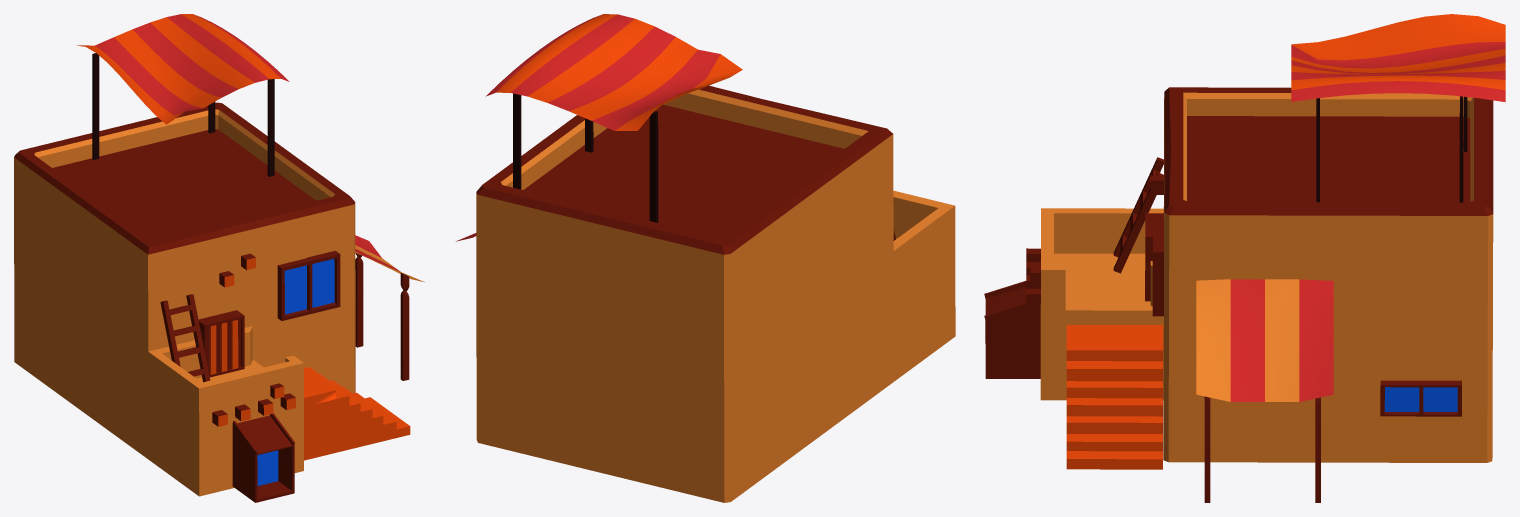
The model's file is DesertHouse_1.FBX.
3 renders of one model, left to right at view 1: azimuth 30°, elevation 25°; view 2: azimuth 150°, elevation 25°; view 3: azimuth 270°, elevation 25°, orthographic. The views are drawn at different scales.
Parts seen in each view (by area): view 1: sand_House; view 2: sand_House; view 3: sand_House.
Part boxes in pixels (left/top/right/bottom): sand_House: left=14, top=14, right=424, bottom=502; sand_House: left=456, top=14, right=955, bottom=502; sand_House: left=984, top=14, right=1505, bottom=502.
Bounding box in the file's own units: 1325 × 1700 × 1323.
